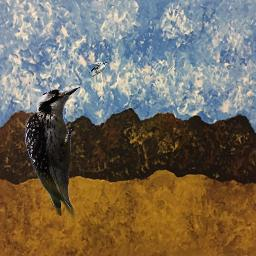Swallow: (87, 61, 109, 77)
Woodpecker: (20, 80, 85, 224)
